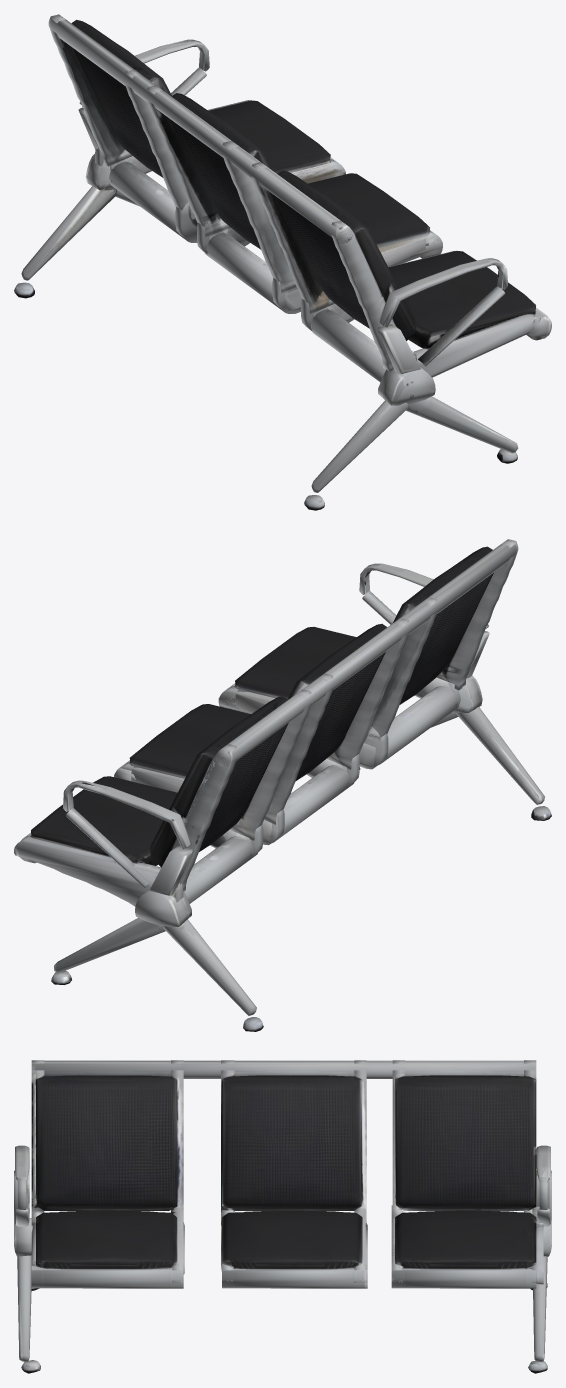
Rendered from waitingseats2.fbx.
The picture shows the model from 3 angles, top to bottom: view 1: azimuth 30°, elevation 25°; view 2: azimuth 150°, elevation 25°; view 3: azimuth 270°, elevation 25°; orthographic projection. The views are drawn at different scales.
Parts seen in each view (by area): view 1: tripo_node_9185df8b; view 2: tripo_node_9185df8b; view 3: tripo_node_9185df8b.
Boxes of the visible parts, x1,y1,x2,y2 form: tripo_node_9185df8b: (14, 14, 551, 510); tripo_node_9185df8b: (14, 539, 551, 1031); tripo_node_9185df8b: (14, 1060, 551, 1373).
Bounding box in the file's own units: 43.51 × 46.06 × 94.12.
Materials: 1 (1 with a texture image).
